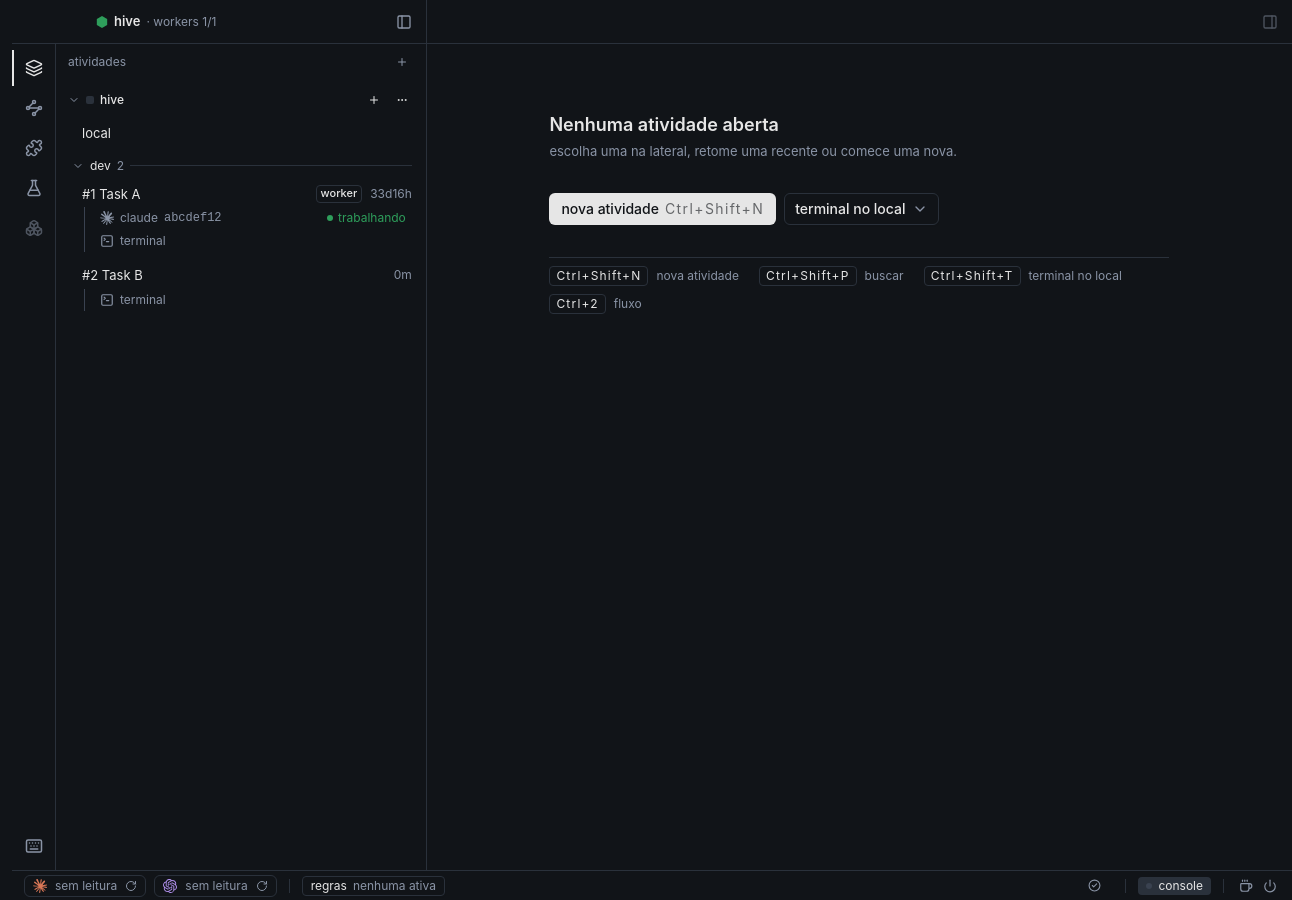
a board whose last poll failed shows its error above the board (#180, #533)
This screenshot has width=1292, height=900.
Click the button named "fluxo" at (34, 108), box [12,90,56,126]
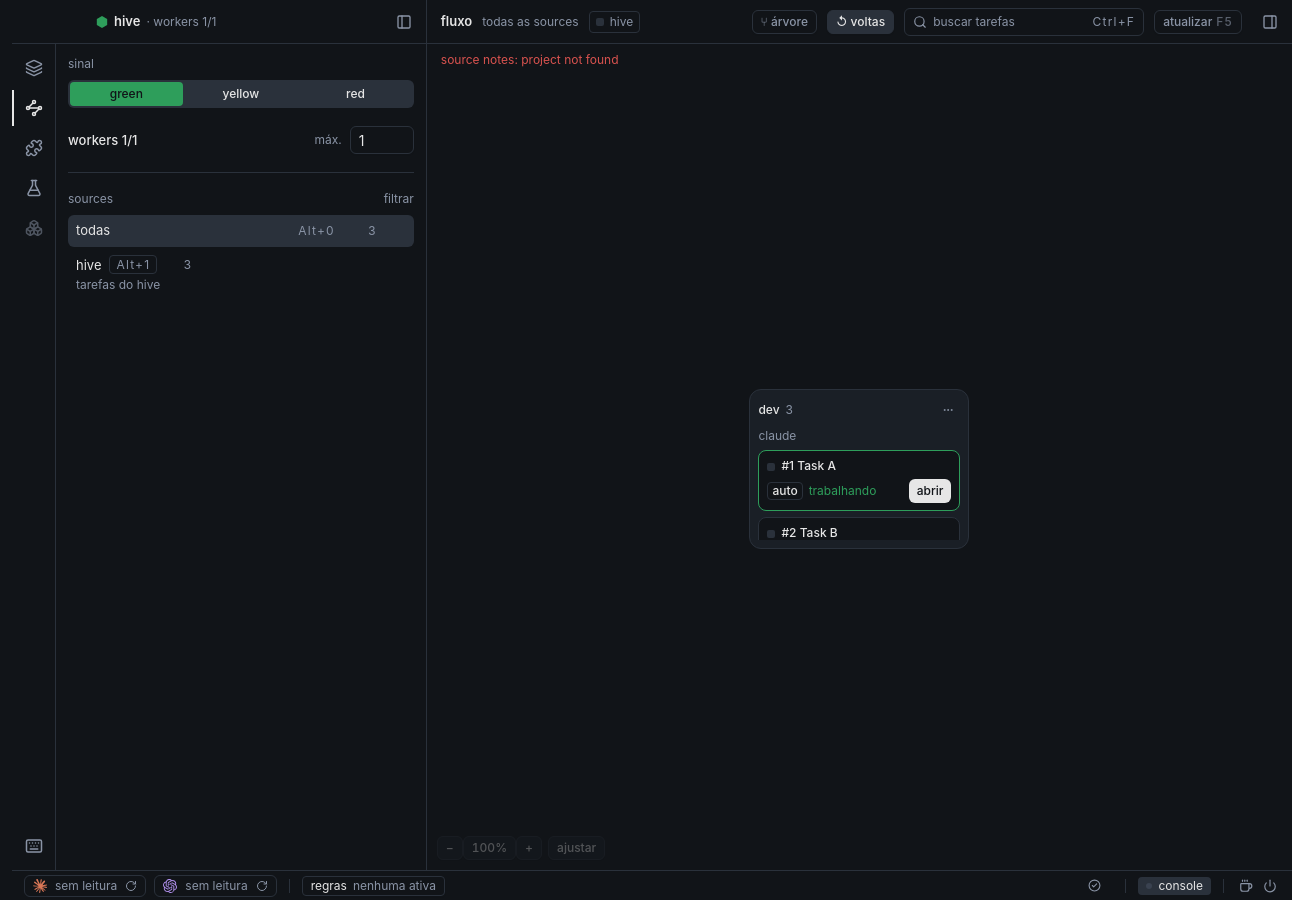
Result: the text "source notes: project not found" is shown at [441,52,619,67]
